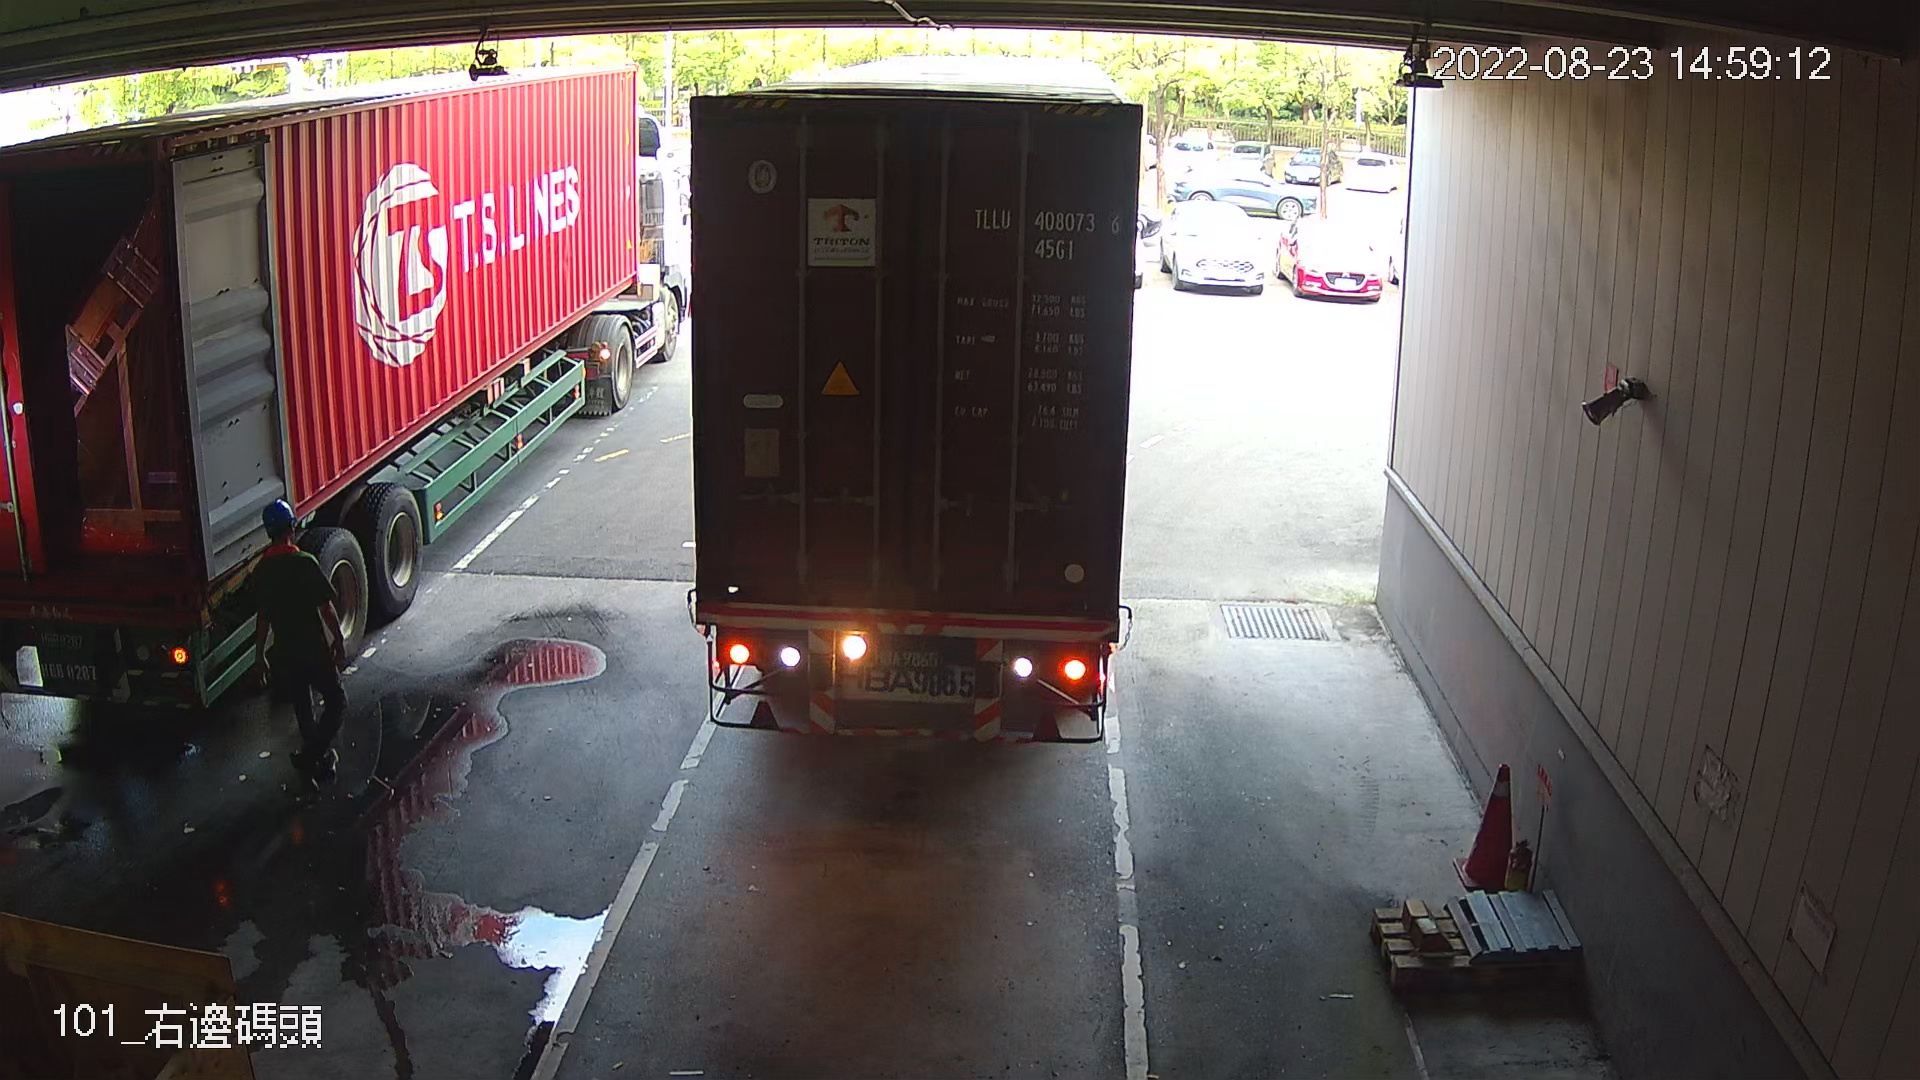container: (963, 196, 1129, 272)
